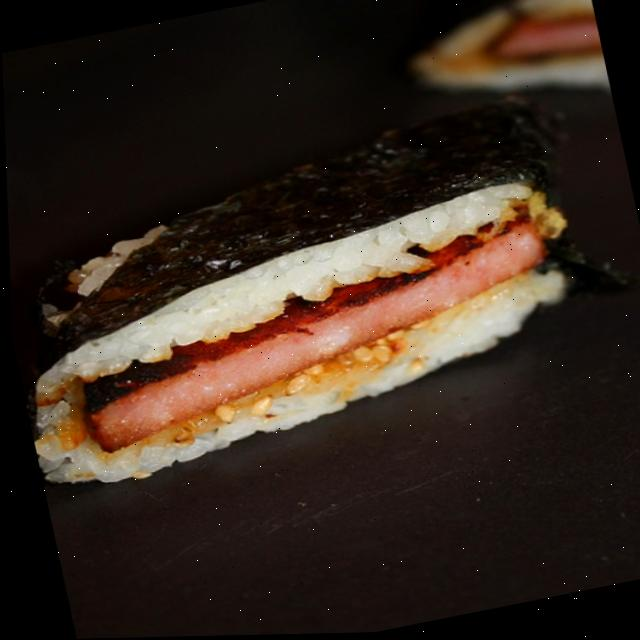寿司卷物: (3, 103, 625, 500)
